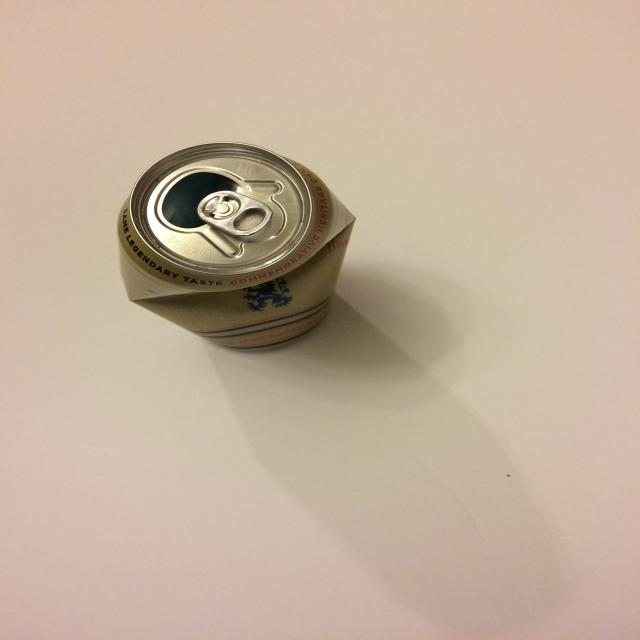metal: (116, 140, 357, 350)
